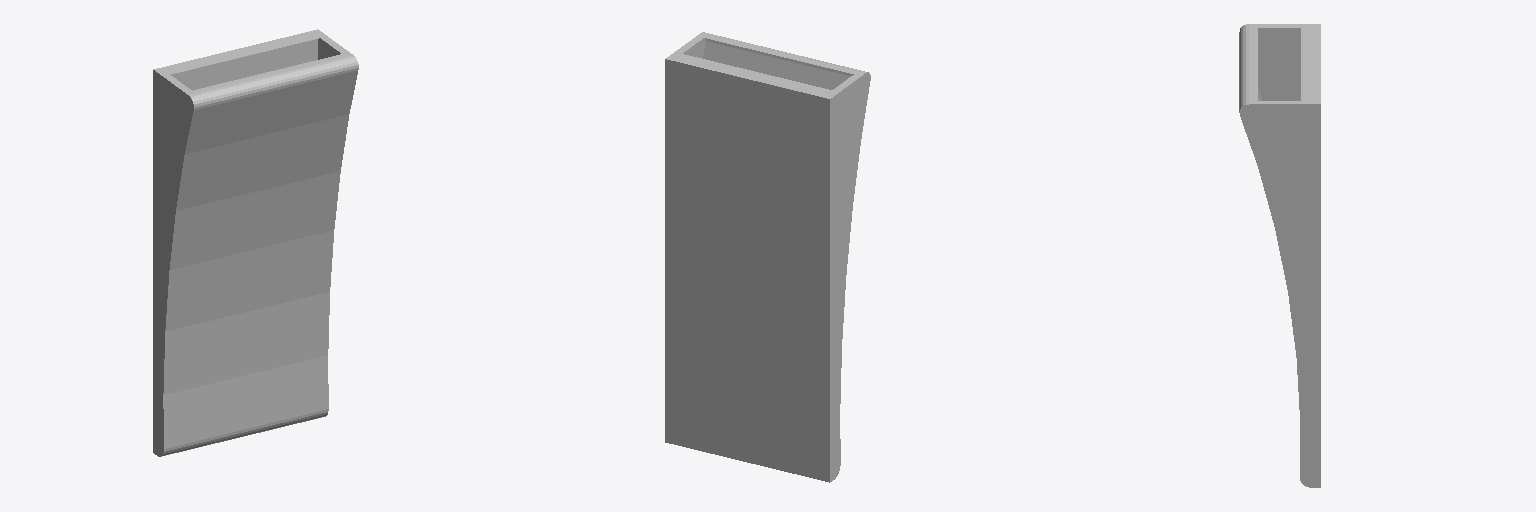
File: original-21.obj
The picture shows the model from 3 angles: view 1: azimuth 30°, elevation 25°; view 2: azimuth 150°, elevation 25°; view 3: azimuth 270°, elevation 25°; orthographic projection.
Parts seen in each view (by area): view 1: #ID4; view 2: #ID4; view 3: #ID4.
Part boxes in pixels (left/top/right/bottom): #ID4: left=153, top=29, right=358, bottom=456; #ID4: left=665, top=32, right=870, bottom=482; #ID4: left=1239, top=24, right=1320, bottom=487.
Bounding box in the file's own units: 0.1068 × 0.2374 × 0.0455.